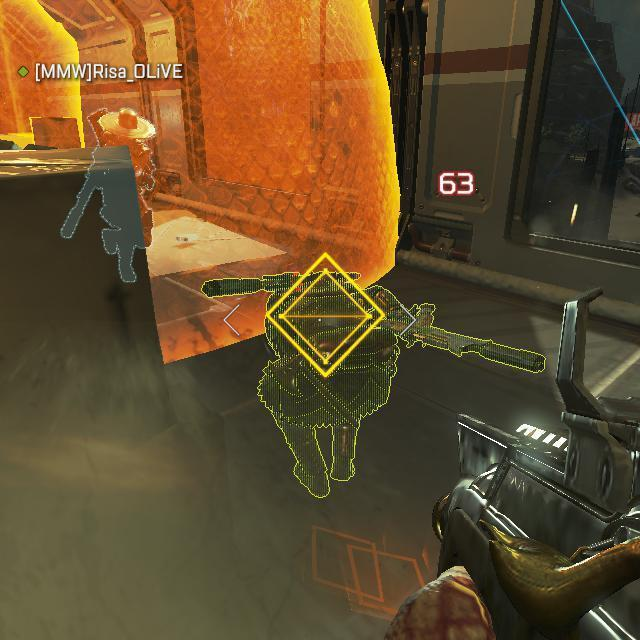avatar: (256, 272, 401, 497)
object: (266, 252, 386, 377)
